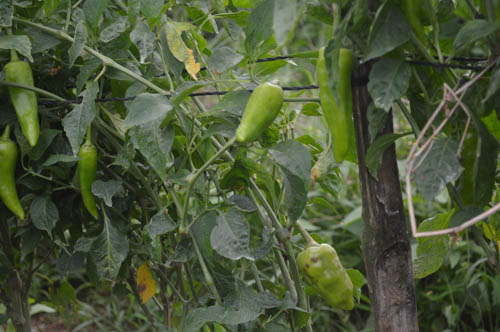ChiliPepper: (315, 50, 354, 162), (301, 245, 354, 305), (237, 82, 284, 147), (6, 63, 41, 144), (1, 141, 24, 219), (79, 148, 100, 218)
